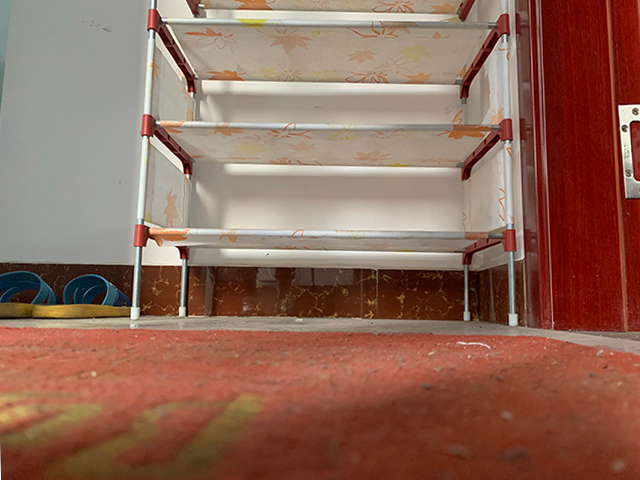carpet: (1, 326, 640, 479)
slippers: (30, 273, 135, 320), (1, 267, 58, 317)
